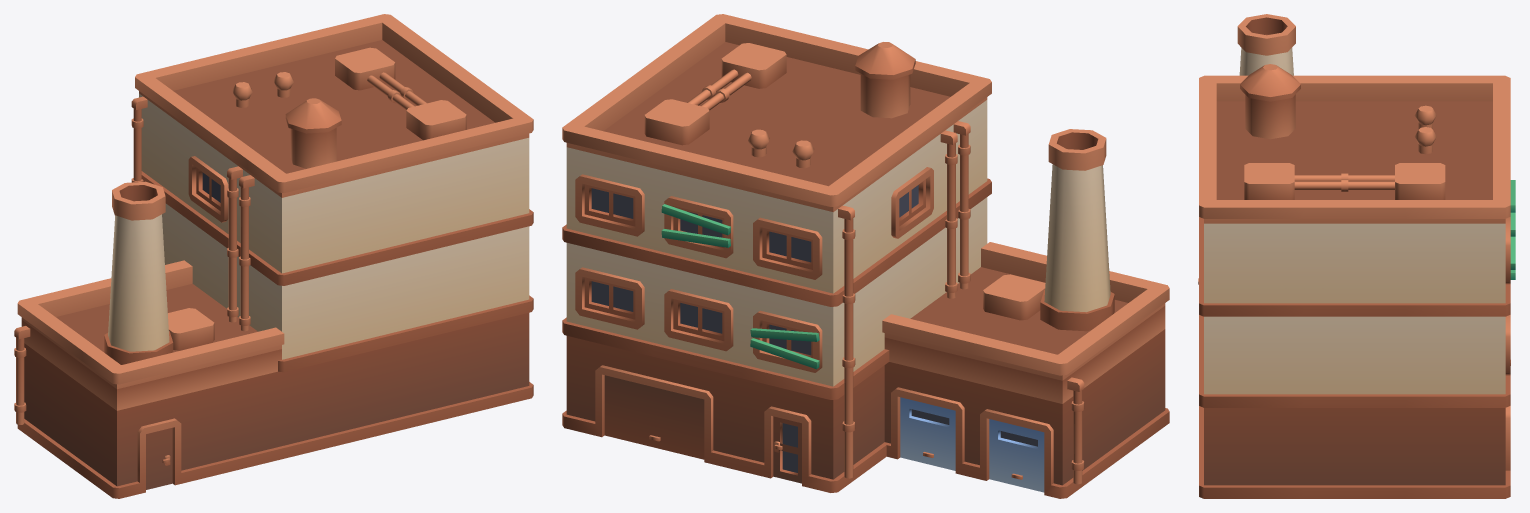
File: building-b.glb
The picture shows the model from 3 angles, left to right: view 1: azimuth 30°, elevation 25°; view 2: azimuth 150°, elevation 25°; view 3: azimuth 270°, elevation 25°; orthographic projection. The views are drawn at different scales.
Parts seen in each view (by area): view 1: building-b; view 2: building-b; view 3: building-b.
Boxes of the visible parts, x1,y1,x2,y2 form: building-b: (14,14,533,498); building-b: (562,14,1169,498); building-b: (1198,14,1515,498).
Size of the model in its own units: 2.08 by 1.47 by 1.26.
2 materials, 2 textured.
